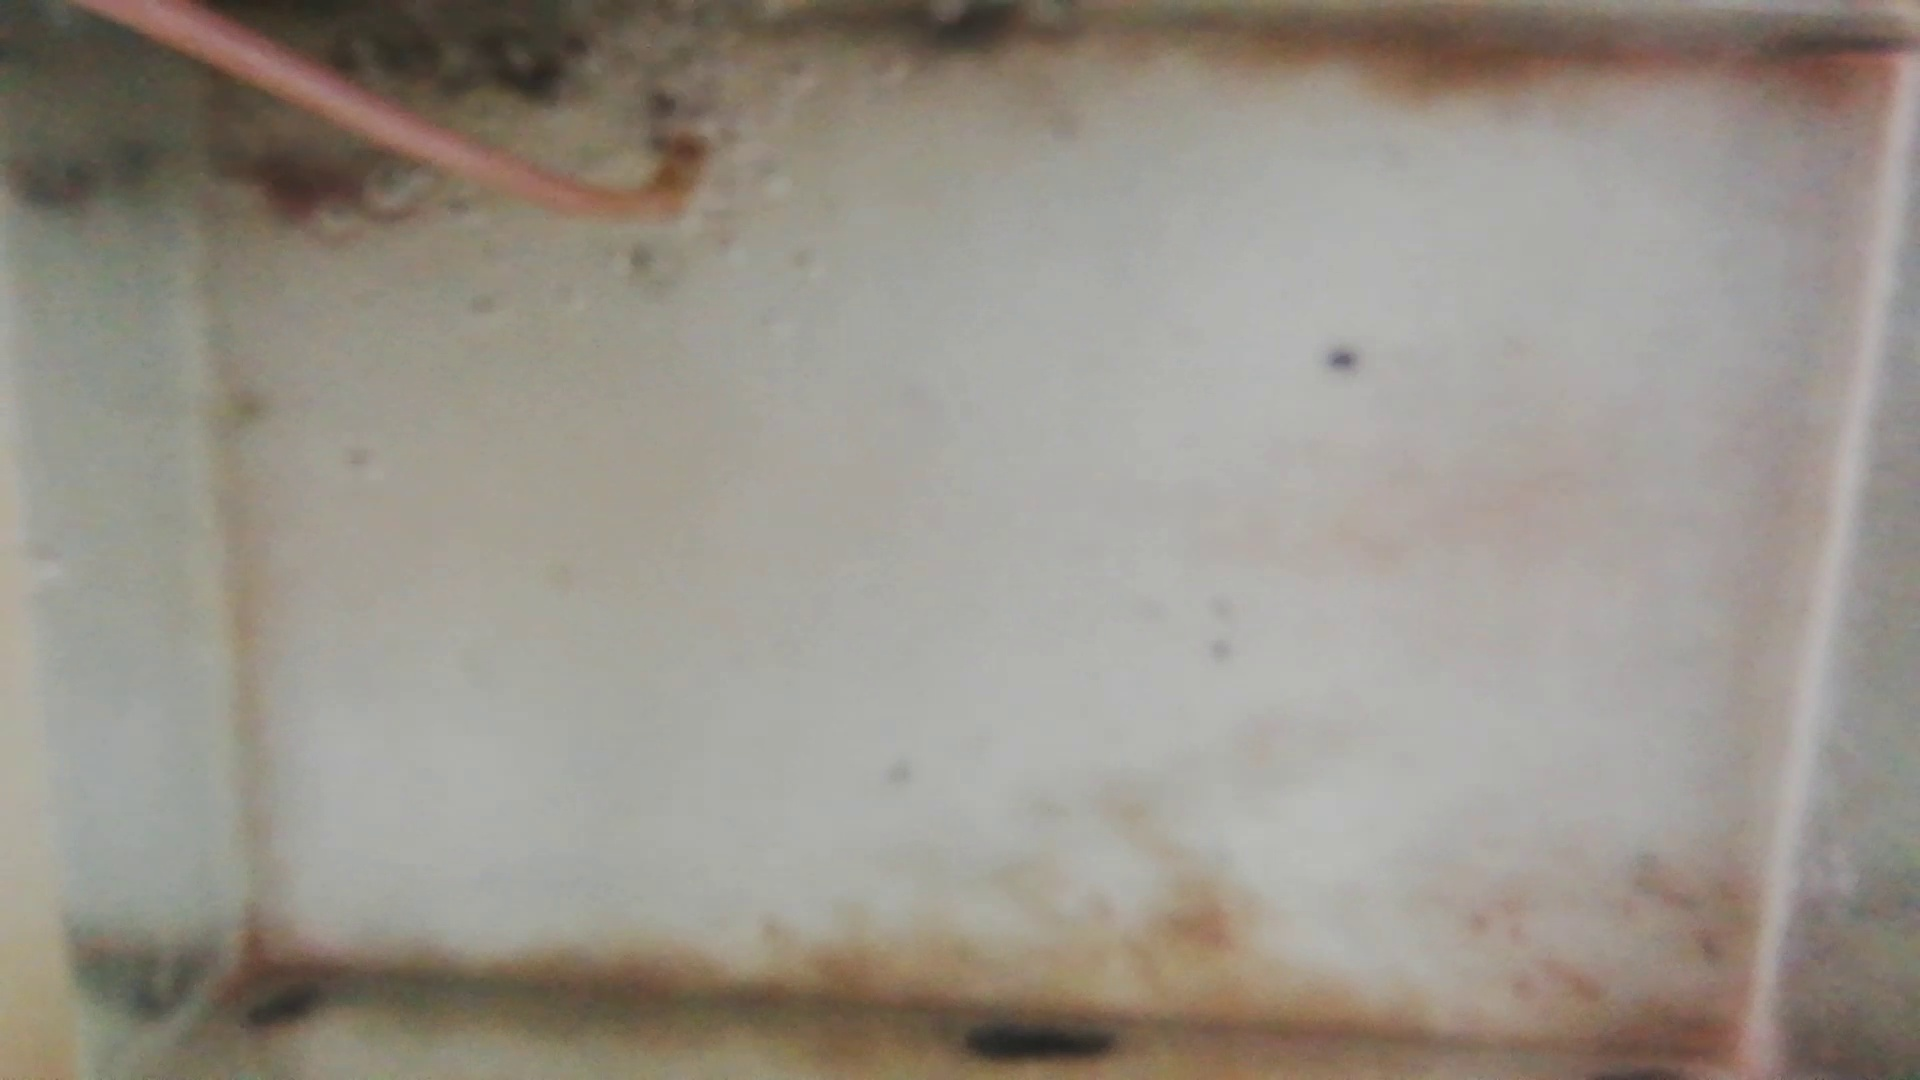fish: (214, 152, 436, 233), (417, 41, 574, 99)
